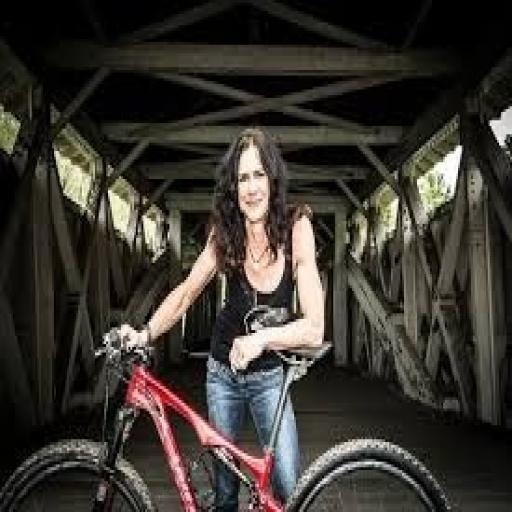cycling: (116, 123, 330, 509)
